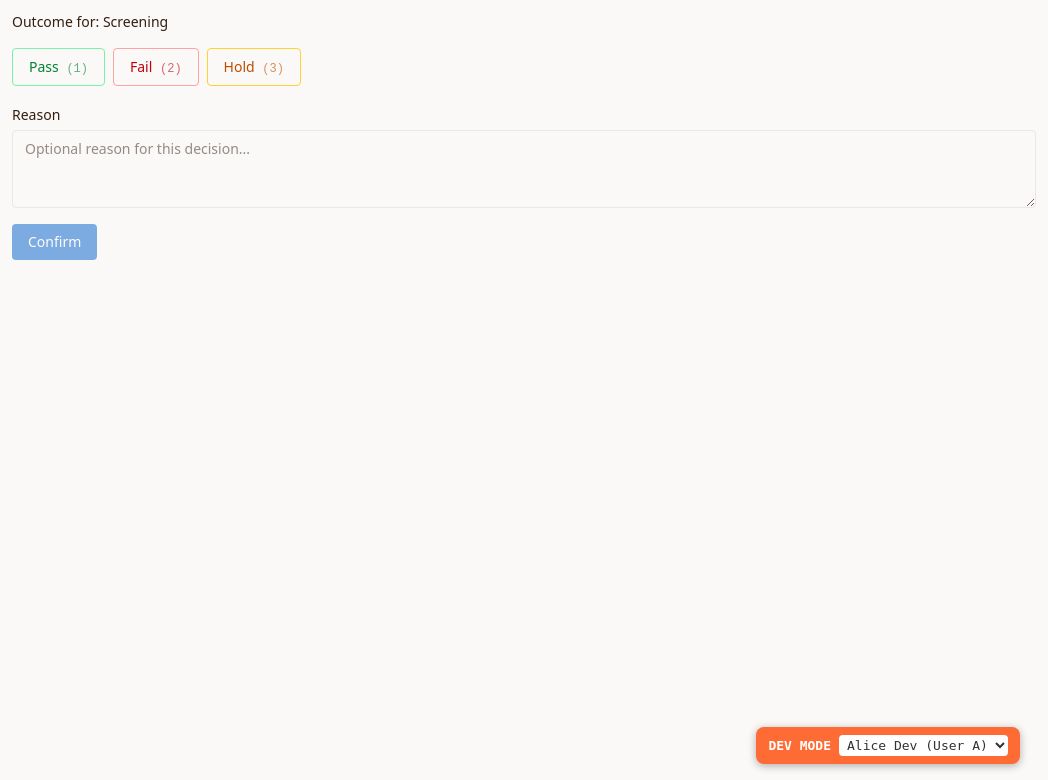
Test case: OutcomeForm › should enable confirm button when outcome selected
What coordinates should you click on to do the following:
click the button "Pass (1)"
I would click on:
 (58, 67)
Its box is [12,48,105,86].
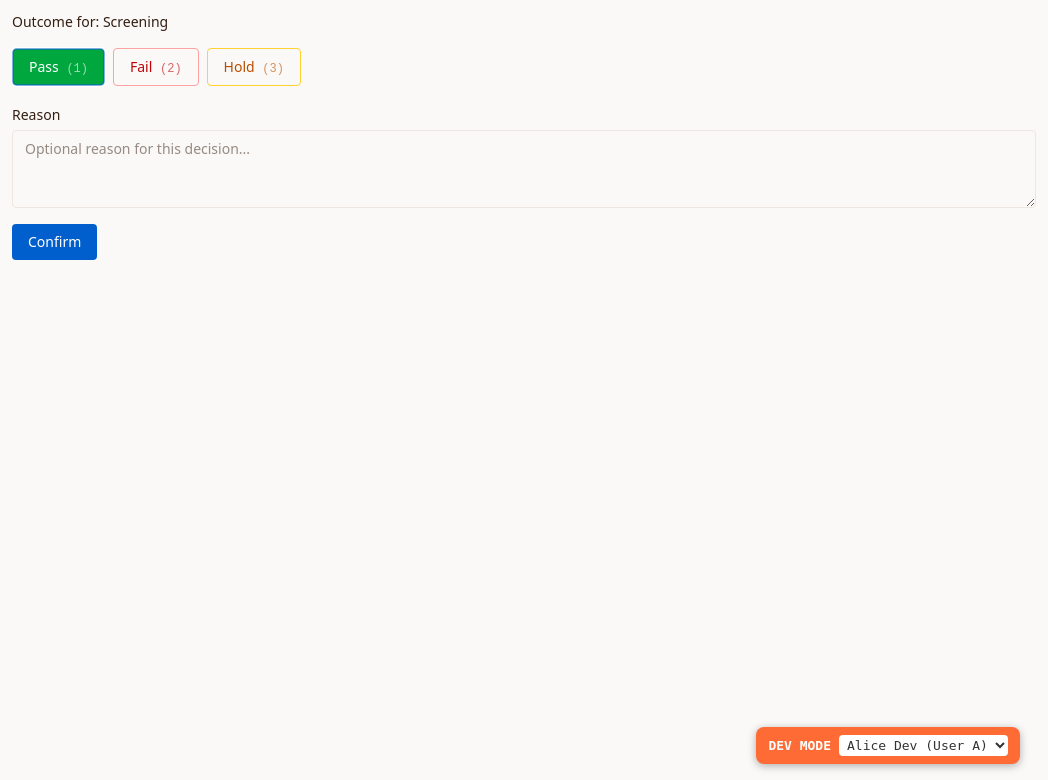
expect the button "Confirm" is enabled: met, box [12,224,97,260]
